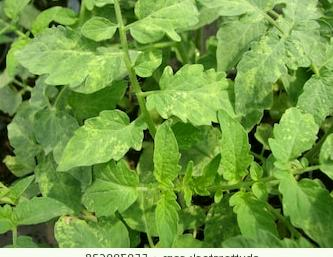Tomato leaf mosaic virus: (15, 25, 129, 92), (147, 61, 258, 125), (54, 109, 147, 174), (271, 169, 333, 244), (210, 7, 269, 78), (233, 38, 286, 115), (76, 163, 142, 219), (268, 103, 320, 174), (131, 0, 200, 46), (211, 108, 252, 185), (149, 118, 181, 187), (13, 192, 73, 228), (151, 189, 180, 247), (81, 17, 117, 43)
